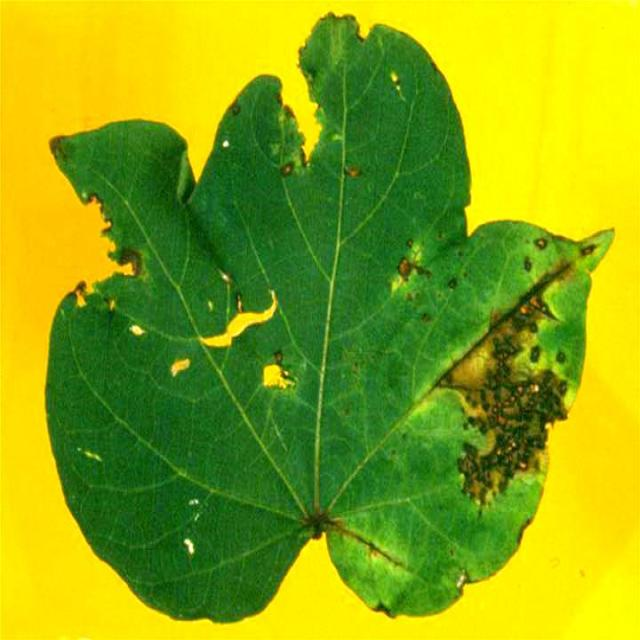Bacterial Blight: (414, 241, 580, 480), (416, 235, 474, 424)
